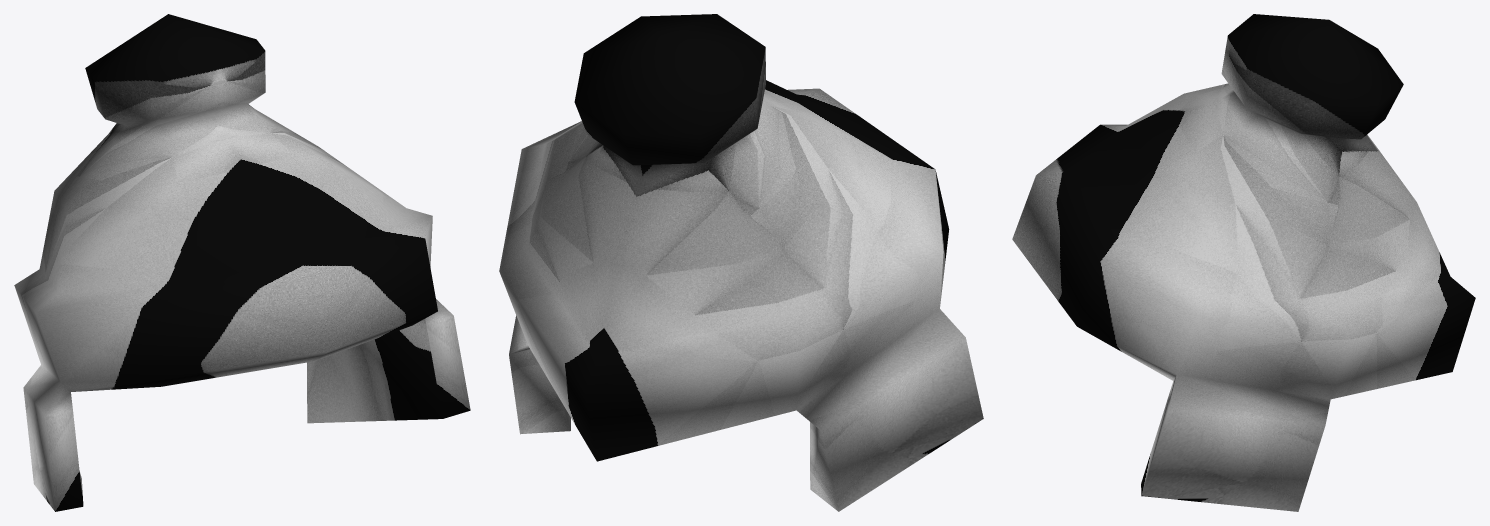
Rendered from redHat.dae.
3 renders of one model, left to right at view 1: azimuth 30°, elevation 25°; view 2: azimuth 150°, elevation 25°; view 3: azimuth 270°, elevation 25°, orthographic. The views are drawn at different scales.
Parts seen in each view (by area): view 1: penguin_head_001__002; view 2: penguin_head_001__002; view 3: penguin_head_001__002.
Boxes of the visible parts, x1,y1,x2,y2 form: penguin_head_001__002: (14,14,470,511); penguin_head_001__002: (499,14,983,511); penguin_head_001__002: (1012,14,1475,511).
Bounding box in the file's own units: 10.69 × 10.39 × 10.37.
Materials: 1 (1 with a texture image).
